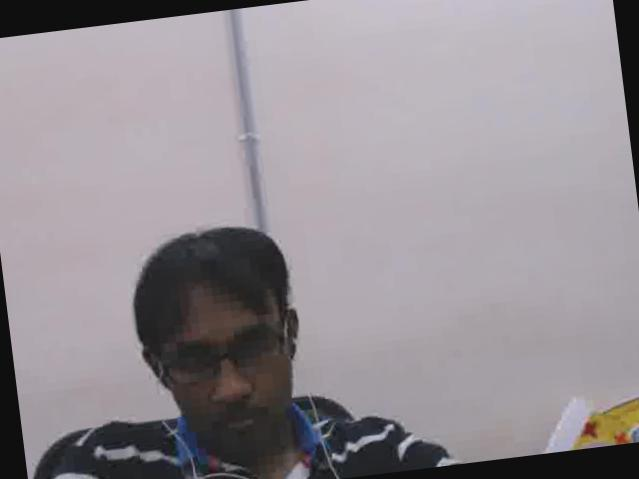bosan: (161, 290, 303, 464)
